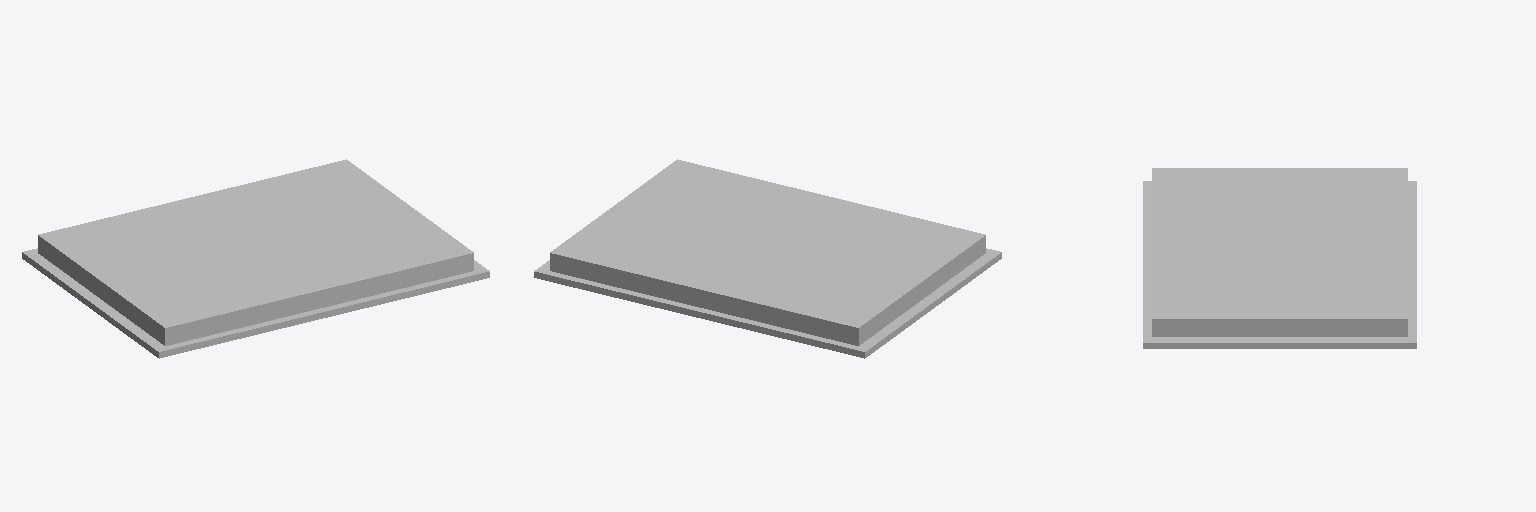
Rendered from LibroBOTfinal.OBJ.
3 views of the same model, side by side, from view 1: azimuth 30°, elevation 25°; view 2: azimuth 150°, elevation 25°; view 3: azimuth 270°, elevation 25° (orthographic).
Size of the model in its own units: 22.78 by 1.6 by 16.3.